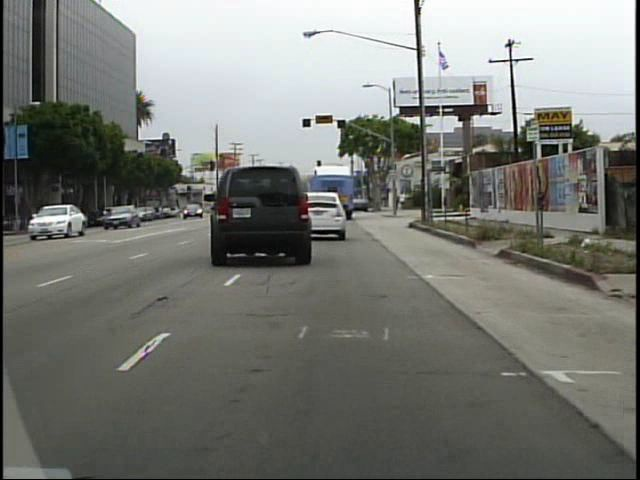person: (393, 189, 402, 214), (400, 189, 408, 212)
